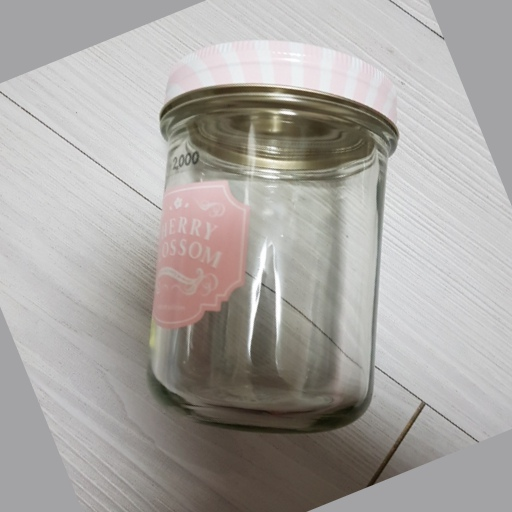Glass_5: (149, 39, 403, 430)
